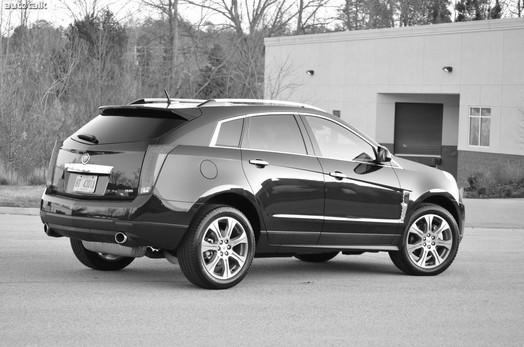car: (40, 88, 468, 290)
